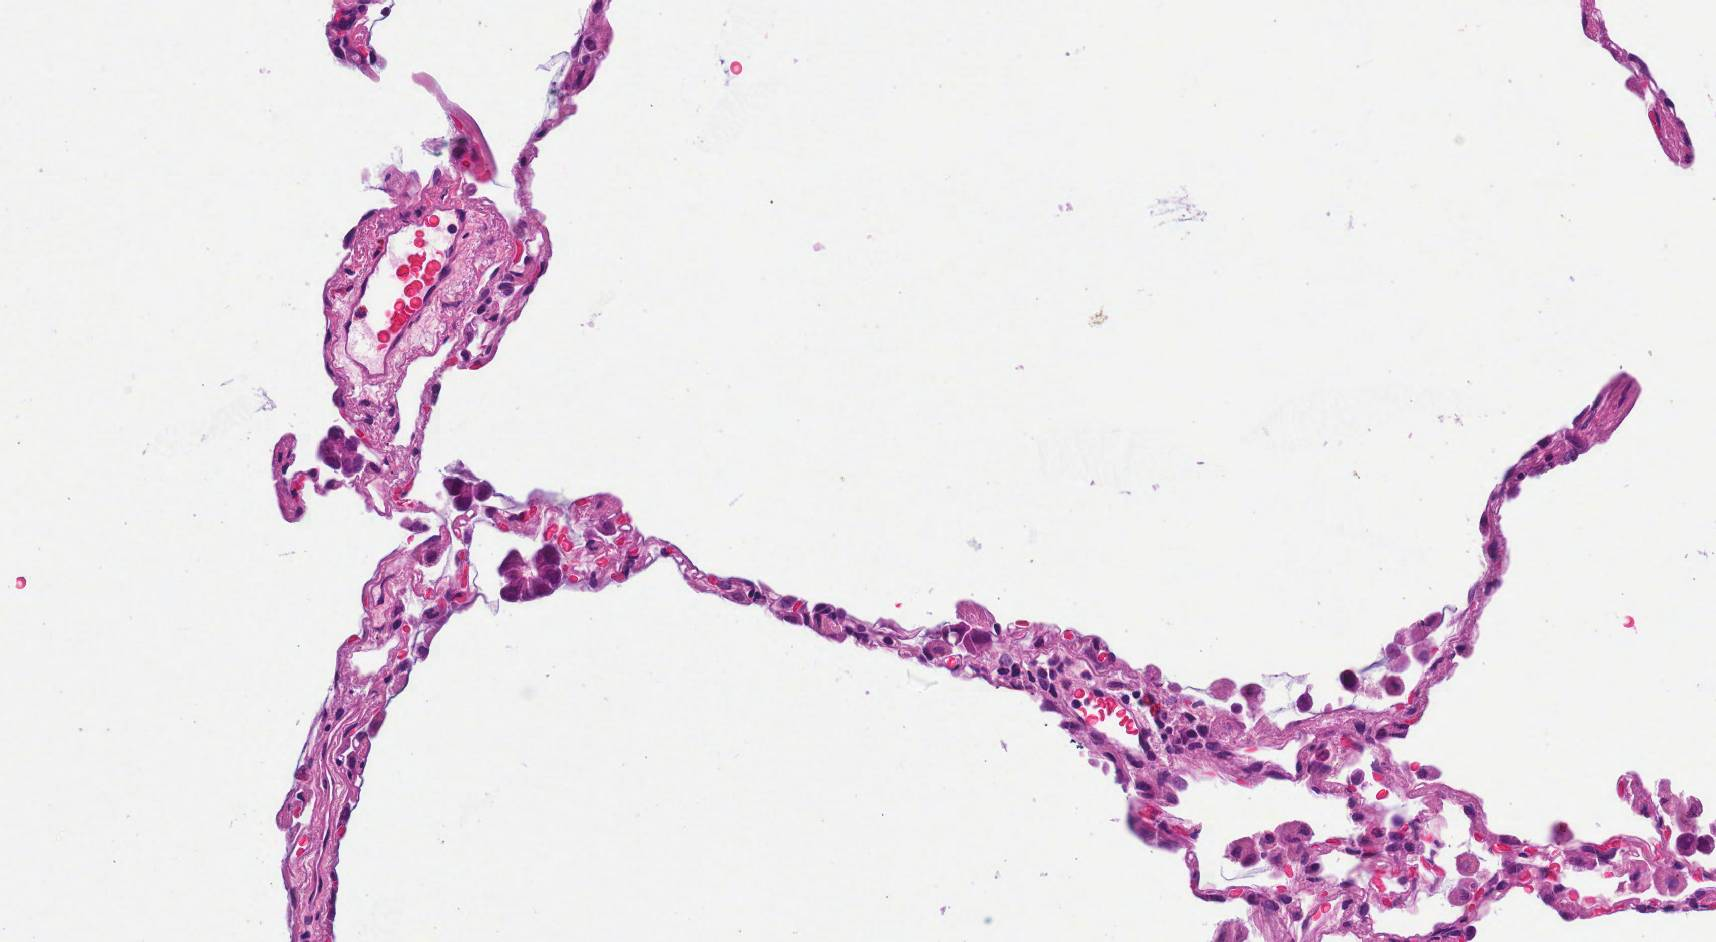stas: (497, 545, 563, 603), (317, 425, 365, 477), (442, 474, 494, 509)
